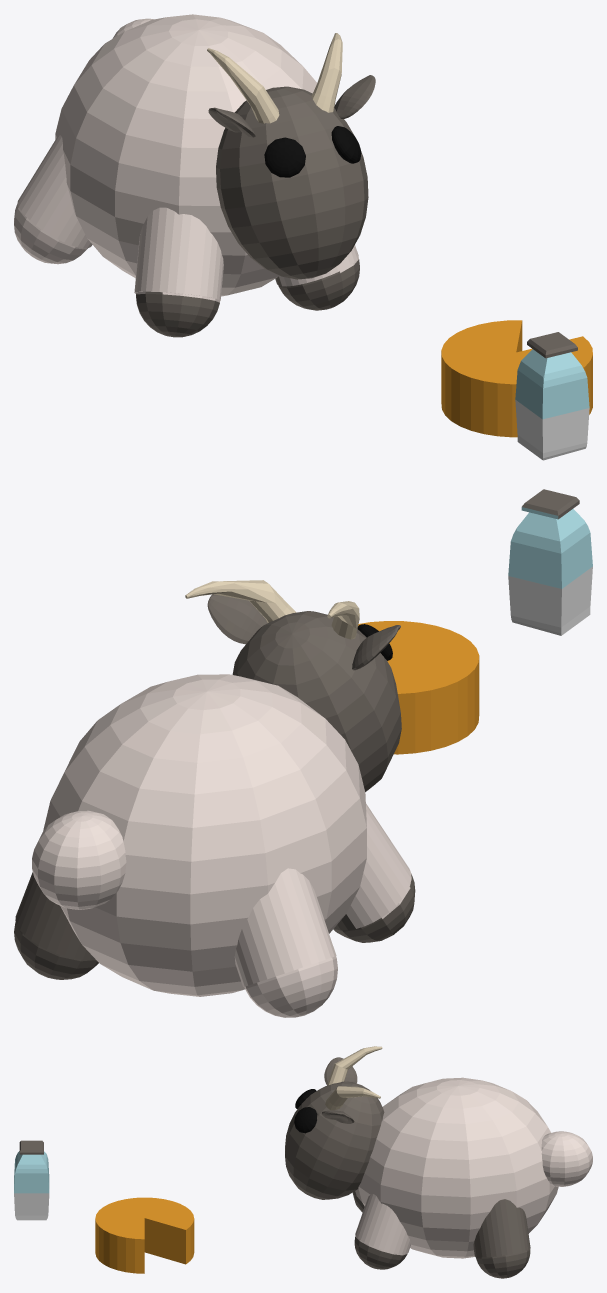
File: Cabra.fbx
3 renders of one model, top to bottom at view 1: azimuth 30°, elevation 25°; view 2: azimuth 150°, elevation 25°; view 3: azimuth 270°, elevation 25°, orthographic. The views are drawn at different scales.
Parts seen in each view (by area): view 1: Sphere.001, Sphere, Cylinder.003, Cylinder.004, Cube, Cylinder.002, Cylinder.001, Cone.002, Cone.001, Sphere.002, Sphere.004, Sphere.003 (+1 smaller); view 2: Sphere.001, Sphere, Cylinder.002, Cube, Cylinder.004, Sphere.006, Cylinder.003, Cylinder, Cone.001, Sphere.004, Sphere.005, Cone.002; view 3: Sphere.001, Sphere, Cylinder.004, Cylinder, Cylinder.001, Cube, Sphere.006, Cone.002, Cone.001, Sphere.003, Sphere.005.
Part boxes in pixels (<box>): Sphere.001: <box>55,14,317,296</box>; Sphere: <box>216,86,368,279</box>; Cylinder.003: <box>134,207,223,337</box>; Cylinder.004: <box>441,320,592,437</box>; Cube: <box>515,332,589,460</box>; Cylinder.002: <box>14,135,92,264</box>; Cylinder.001: <box>275,245,359,310</box>; Cone.002: <box>207,48,279,123</box>; Cone.001: <box>311,33,342,112</box>; Sphere.002: <box>264,137,305,177</box>; Sphere.004: <box>334,75,375,118</box>; Sphere.003: <box>331,126,361,163</box>; Sphere.001: <box>43,674,366,996</box>; Sphere: <box>232,611,401,791</box>; Cylinder.002: <box>234,868,337,1017</box>; Cube: <box>508,489,592,635</box>; Cylinder.004: <box>358,621,479,754</box>; Sphere.006: <box>32,810,126,909</box>; Cylinder.003: <box>333,803,415,942</box>; Cylinder: <box>14,872,98,979</box>; Cone.001: <box>185,580,296,622</box>; Sphere.004: <box>207,594,267,644</box>; Sphere.005: <box>352,625,400,670</box>; Cone.002: <box>327,601,359,639</box>; Sphere.001: <box>358,1077,558,1258</box>; Sphere: <box>285,1081,384,1199</box>; Cylinder.004: <box>95,1197,194,1273</box>; Cylinder: <box>473,1199,530,1278</box>; Cylinder.001: <box>354,1194,410,1269</box>; Cube: <box>14,1140,49,1220</box>; Sphere.006: <box>541,1131,592,1186</box>; Cone.002: <box>327,1046,382,1085</box>; Cone.001: <box>325,1086,380,1110</box>; Sphere.003: <box>294,1107,317,1133</box>; Sphere.005: <box>324,1057,357,1084</box>.
Bounding box in the file's own units: 438 × 421 × 1170.
